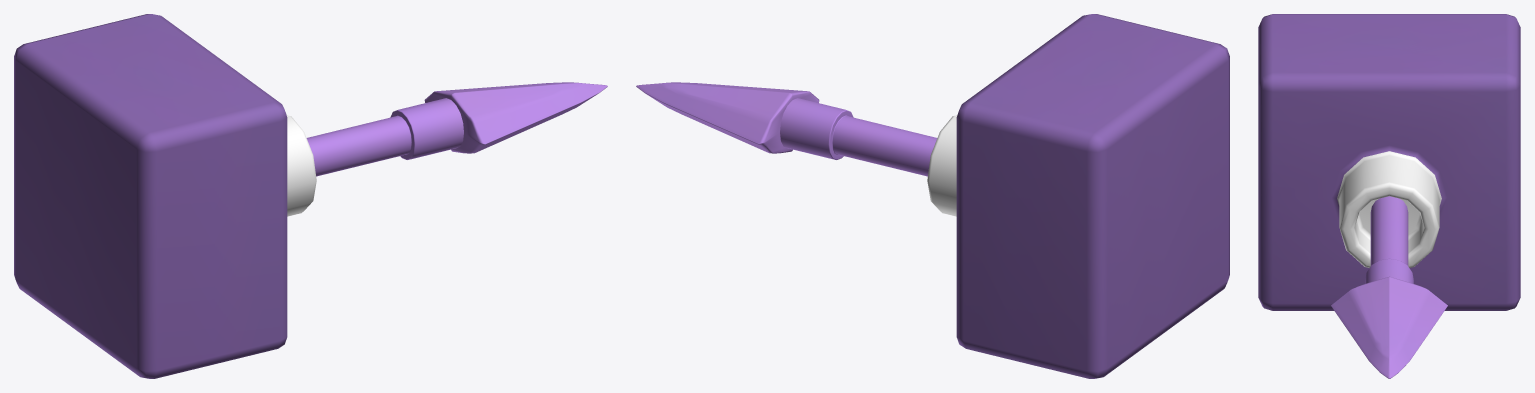
File: SpearMachine.fbx
3 views of the same model, side by side, from view 1: azimuth 30°, elevation 25°; view 2: azimuth 150°, elevation 25°; view 3: azimuth 270°, elevation 25° (orthographic). The views are drawn at different scales.
Parts seen in each view (by area): view 1: SpeacMechanism, Spear; view 2: SpeacMechanism, Spear; view 3: SpeacMechanism, Spear.
Boxes of the visible parts, x1=… form: SpeacMechanism: x1=14, y1=14, x2=316, y2=378; Spear: x1=306, y1=82, x2=607, y2=176; SpeacMechanism: x1=927, y1=14, x2=1229, y2=378; Spear: x1=636, y1=82, x2=937, y2=176; SpeacMechanism: x1=1258, y1=14, x2=1520, y2=310; Spear: x1=1331, y1=196, x2=1447, y2=378.
Size of the model in its own units: 24.14 by 10.7 by 10.7.
Materials: 1 (1 with a texture image).
